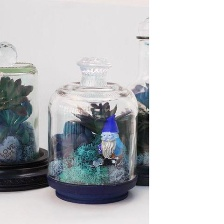bottle: (45, 76, 140, 200), (0, 57, 41, 171)
